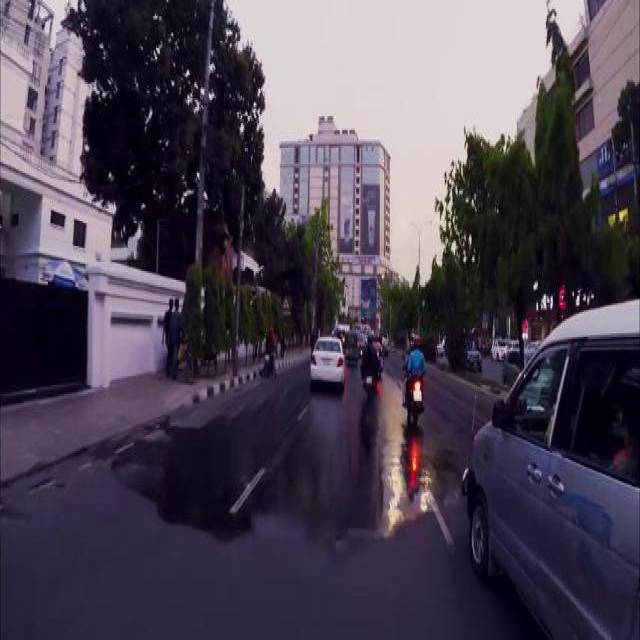car: (309, 333, 344, 380), (464, 335, 481, 366), (488, 335, 505, 355)
motorcycle: (400, 353, 423, 421), (359, 342, 378, 398), (344, 328, 358, 358)
truck: (465, 300, 638, 634)
